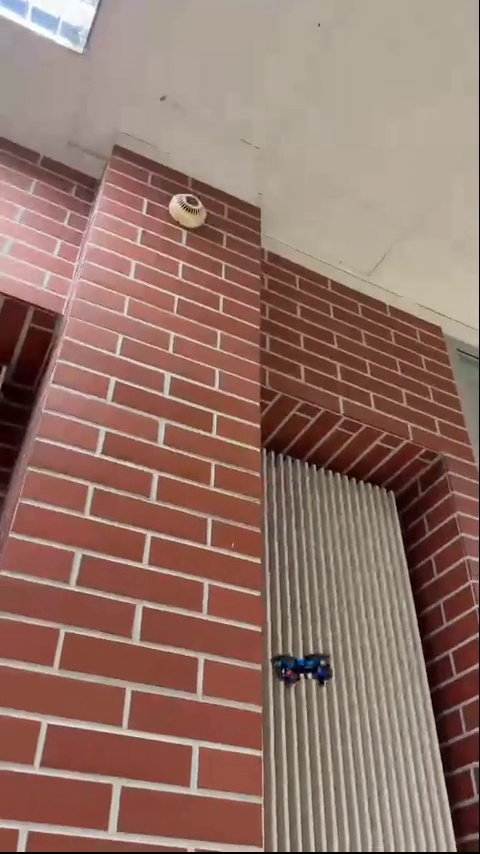drone: (271, 648, 330, 687)
